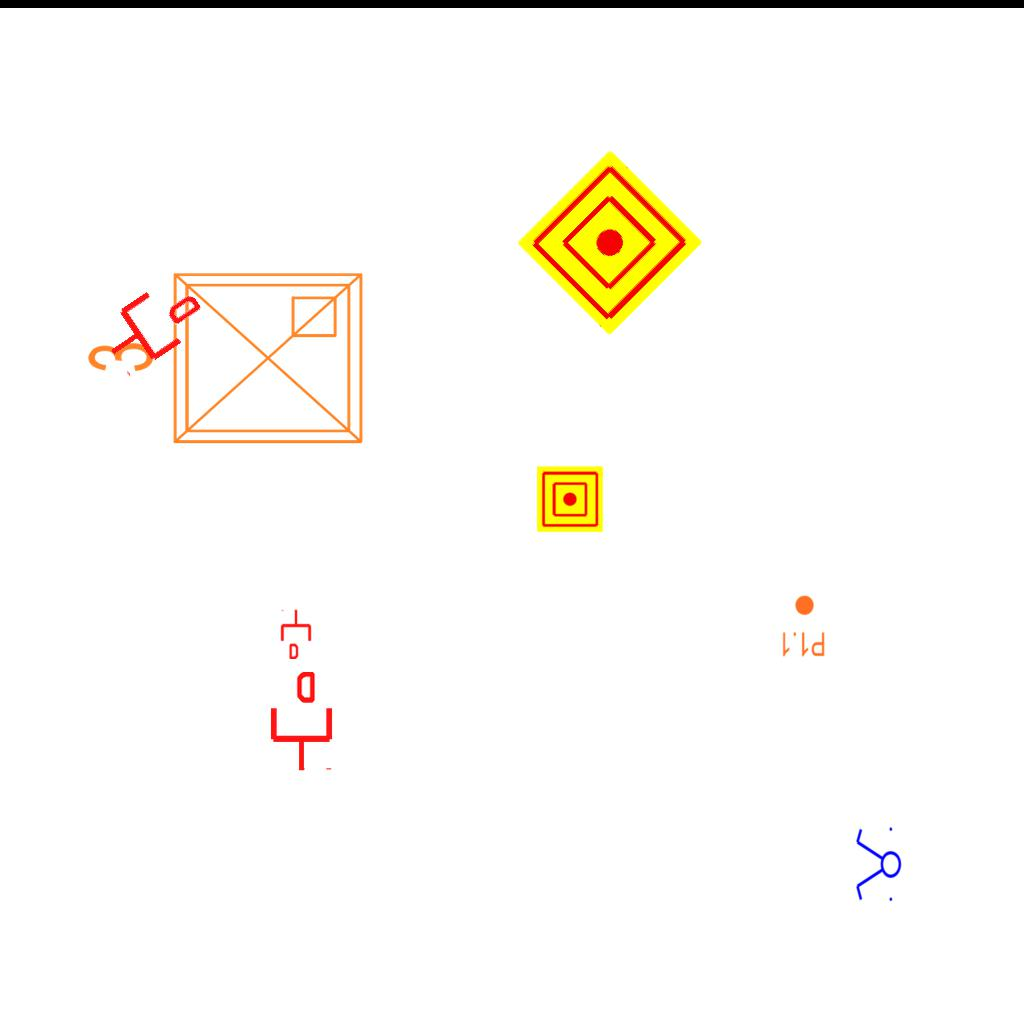Datenanschluss_einfach: (91, 268, 214, 382), (267, 672, 336, 772), (279, 609, 313, 659)
Downlight_LED_Einbauleuchten_Flur: (780, 594, 826, 658)
Einbaudownlights_LED_Konferenzraeume: (77, 258, 377, 466)
NAM-Nichtautomatischer_Melder: (516, 149, 704, 337), (537, 466, 603, 532)
Serienschalter: (854, 823, 902, 907)
